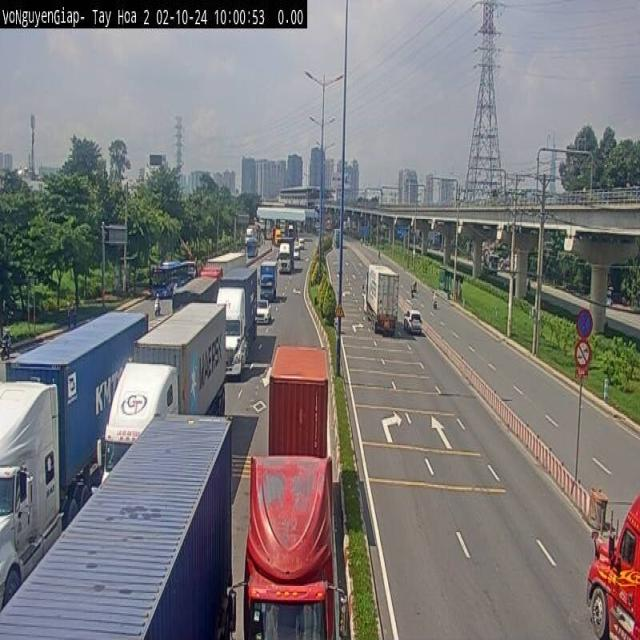container-truck: (0, 407, 233, 640), (0, 307, 148, 612), (229, 331, 356, 640), (102, 293, 235, 493), (586, 492, 639, 639), (363, 263, 399, 336)
